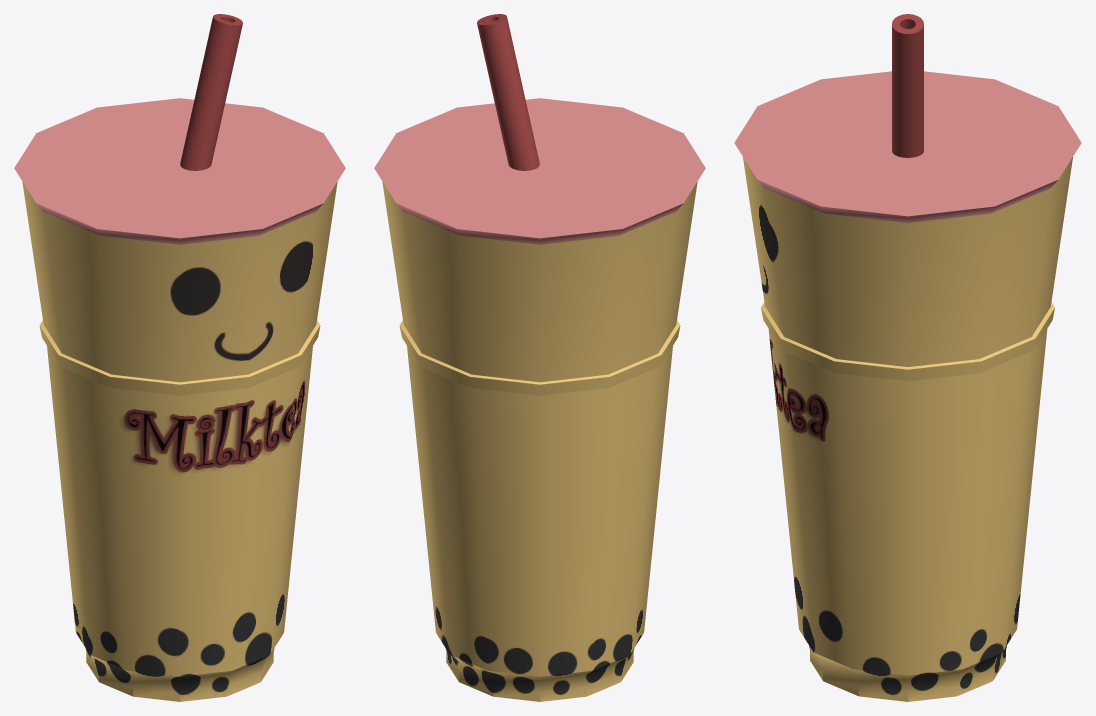
Rendered from Milktea.fbx.
The picture shows the model from 3 angles, left to right: view 1: azimuth 30°, elevation 25°; view 2: azimuth 150°, elevation 25°; view 3: azimuth 270°, elevation 25°; orthographic projection. The views are drawn at different scales.
Parts seen in each view (by area): view 1: MilkTea; view 2: MilkTea; view 3: MilkTea.
Part boxes in pixels (left/top/right/bottom): MilkTea: left=14, top=14, right=345, bottom=701; MilkTea: left=374, top=14, right=705, bottom=701; MilkTea: left=734, top=14, right=1081, bottom=701.
Size of the model in its own units: 13.03 by 27.5 by 13.03.
3 materials, 1 textured.
